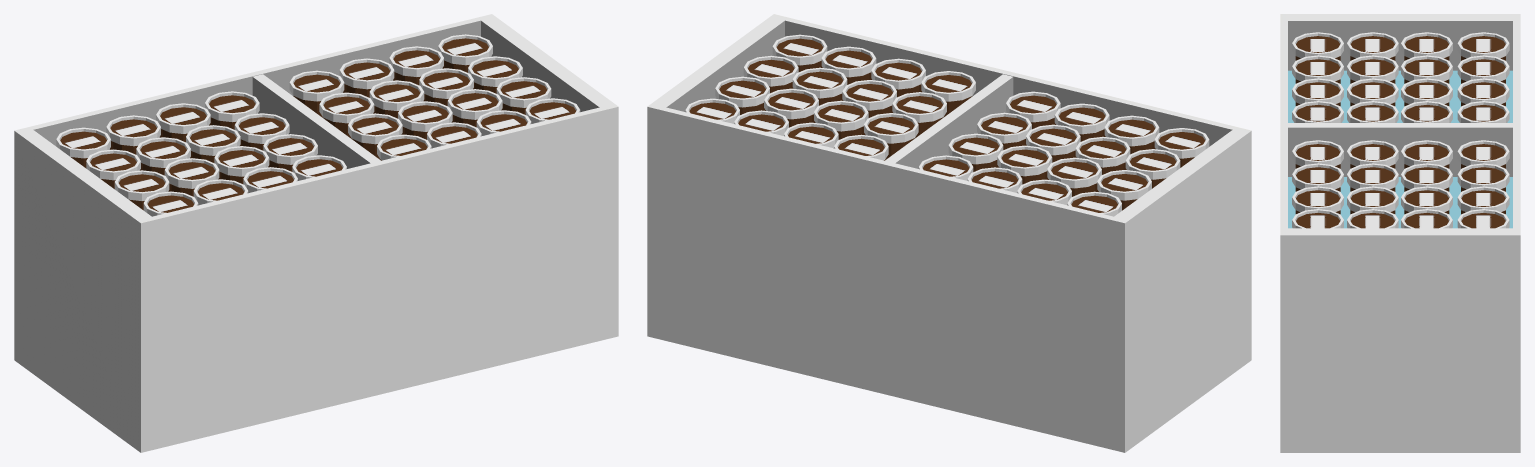
Rendered from chocolate_ice_cream_box.gltf.
The picture shows the model from 3 angles, left to right: view 1: azimuth 30°, elevation 25°; view 2: azimuth 150°, elevation 25°; view 3: azimuth 270°, elevation 25°; orthographic projection. The views are drawn at different scales.
Parts seen in each view (by area): view 1: Cube.002; view 2: Cube.002; view 3: Cube.002.
Part boxes in pixels (x1,y1,x2,y2): Cube.002: (14,14,618,452); Cube.002: (647,14,1251,452); Cube.002: (1280,14,1520,452).
Size of the model in its own units: 9.22 by 4.23 by 4.23.
3 materials, 3 textured.
